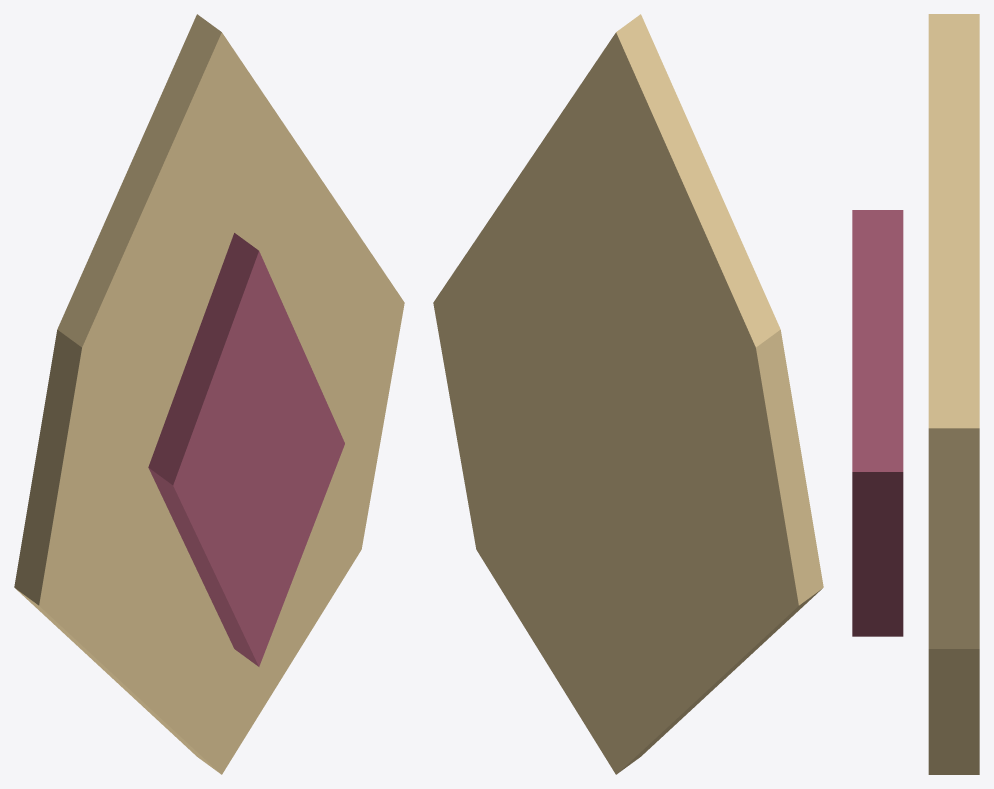
File: ACC_Flame_Brooch.glb
3 views of the same model, side by side, from view 1: azimuth 30°, elevation 25°; view 2: azimuth 150°, elevation 25°; view 3: azimuth 270°, elevation 25° (orthographic). The views are drawn at different scales.
Visible parts, largest first — view 1: ACC_Flame_Brooch_1, ACC_Flame_Brooch_2; view 2: ACC_Flame_Brooch_1; view 3: ACC_Flame_Brooch_1, ACC_Flame_Brooch_2.
Boxes of the visible parts, left/top/right/bottom form: ACC_Flame_Brooch_1: left=14, top=14, right=404, bottom=774; ACC_Flame_Brooch_2: left=148, top=233, right=344, bottom=666; ACC_Flame_Brooch_1: left=433, top=14, right=823, bottom=774; ACC_Flame_Brooch_1: left=928, top=14, right=979, bottom=774; ACC_Flame_Brooch_2: left=852, top=210, right=903, bottom=636.
Size of the model in its own units: 0.034 by 0.066 by 0.01.
